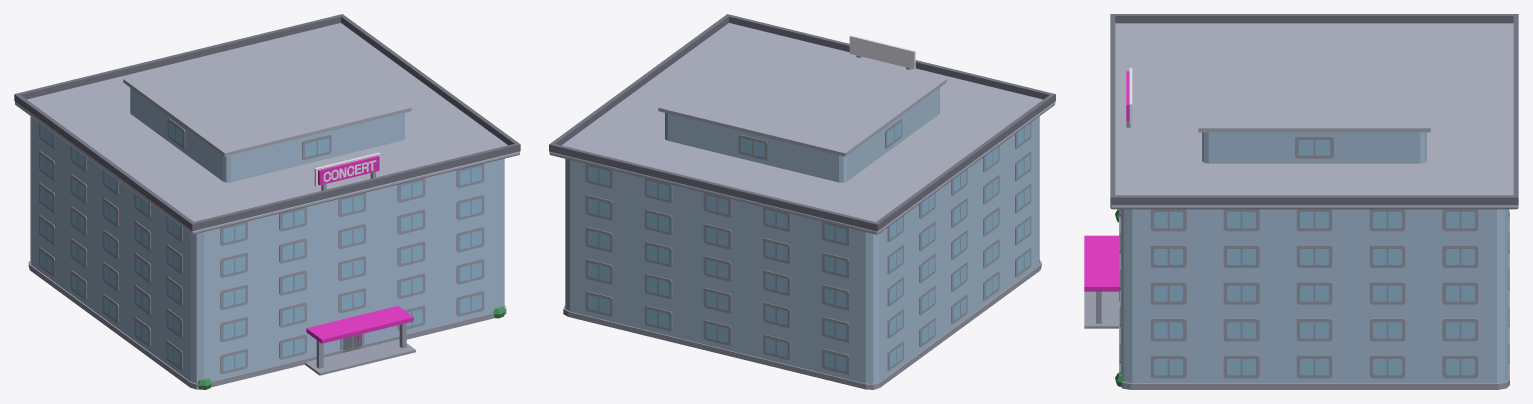
The model's file is concert-hall-3x3-5f.glb.
3 views of the same model, side by side, from view 1: azimuth 30°, elevation 25°; view 2: azimuth 150°, elevation 25°; view 3: azimuth 270°, elevation 25° (orthographic). The views are drawn at different scales.
Parts seen in each view (by area): view 1: concert-hall-3x3-5f; view 2: concert-hall-3x3-5f; view 3: concert-hall-3x3-5f.
Part boxes in pixels (x1,y1,x2,y2): concert-hall-3x3-5f: (14,14,520,389); concert-hall-3x3-5f: (549,14,1055,389); concert-hall-3x3-5f: (1084,14,1518,389).
Size of the model in its own units: 3 by 1.72 by 3.
Materials: 1 (1 with a texture image).
